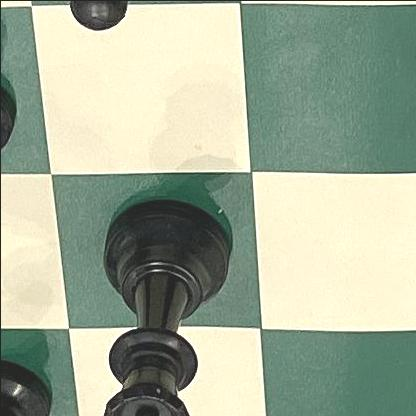black-pawn: (55, 0, 175, 43), (0, 66, 24, 241)
black-queen: (92, 188, 235, 416)
